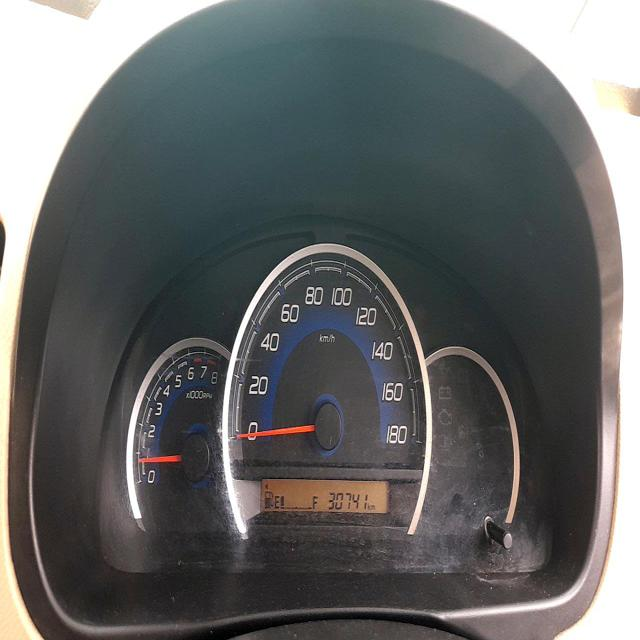odometer: (326, 486, 367, 511)
